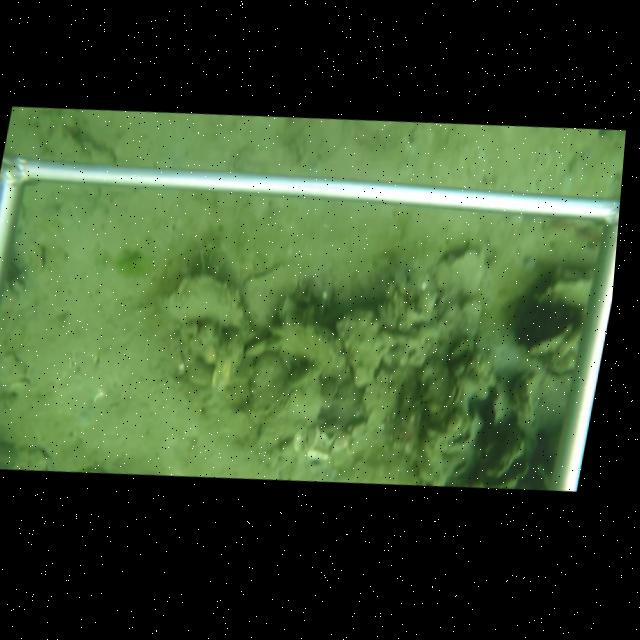Oyster-Closed: (253, 371, 324, 451), (481, 429, 526, 478), (485, 379, 508, 429)
Oyster-Indeterminate: (332, 309, 397, 388), (166, 272, 250, 332), (243, 259, 303, 329), (428, 248, 489, 307)
Oyster-Open: (428, 413, 483, 455), (444, 378, 464, 414)
